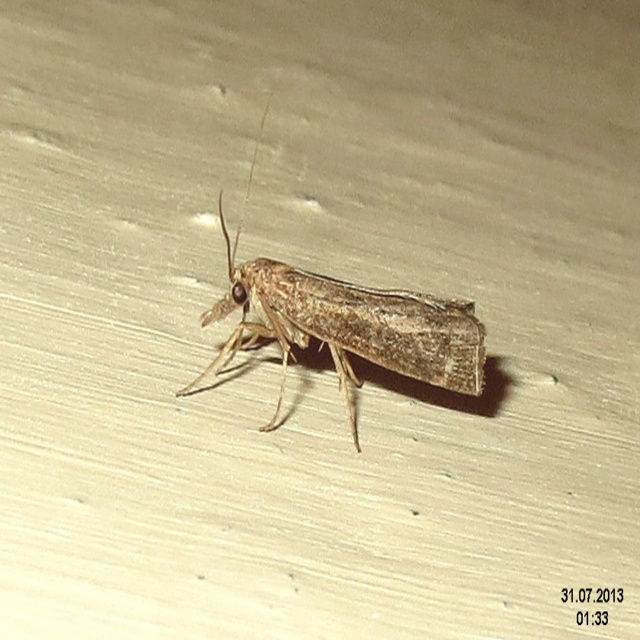Moths and butterflies: (174, 78, 488, 458)
